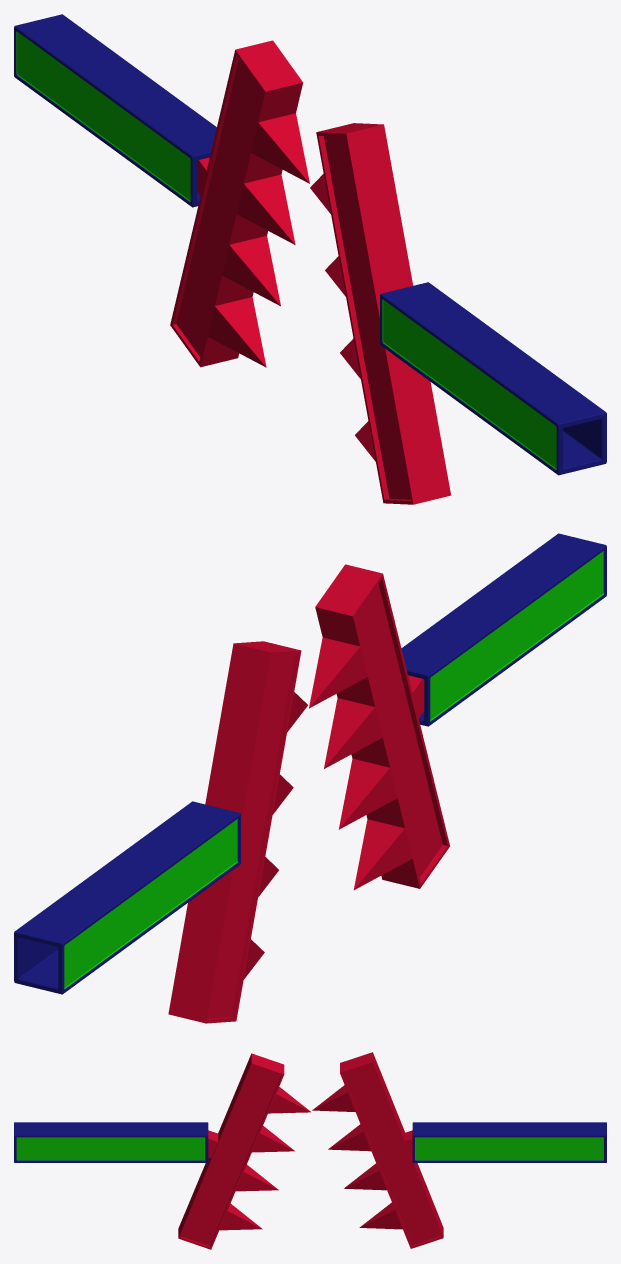
The model's file is Spike.fbx.
3 renders of one model, top to bottom at view 1: azimuth 30°, elevation 25°; view 2: azimuth 150°, elevation 25°; view 3: azimuth 270°, elevation 25°, orthographic. The views are drawn at different scales.
Parts seen in each view (by area): view 1: Spike Body 2 (×2), Spike Head 1, Spike Head; view 2: Spike Body 2 (×2), Spike Head, Spike Head 1; view 3: Spike Body 2 (×2), Spike Head, Spike Head 1.
Part boxes in pixels (x1,y1,x2,y2): Spike Body 2 (×2): (14,14,606,475); Spike Head 1: (170,40,309,367); Spike Head: (310,123,450,504); Spike Body 2 (×2): (14,533,606,994); Spike Head: (309,564,449,889); Spike Head 1: (168,641,307,1023); Spike Body 2 (×2): (14,1122,606,1162); Spike Head: (178,1053,310,1249); Spike Head 1: (312,1052,443,1248).
Size of the model in its own units: 47.99 by 322 by 921.
